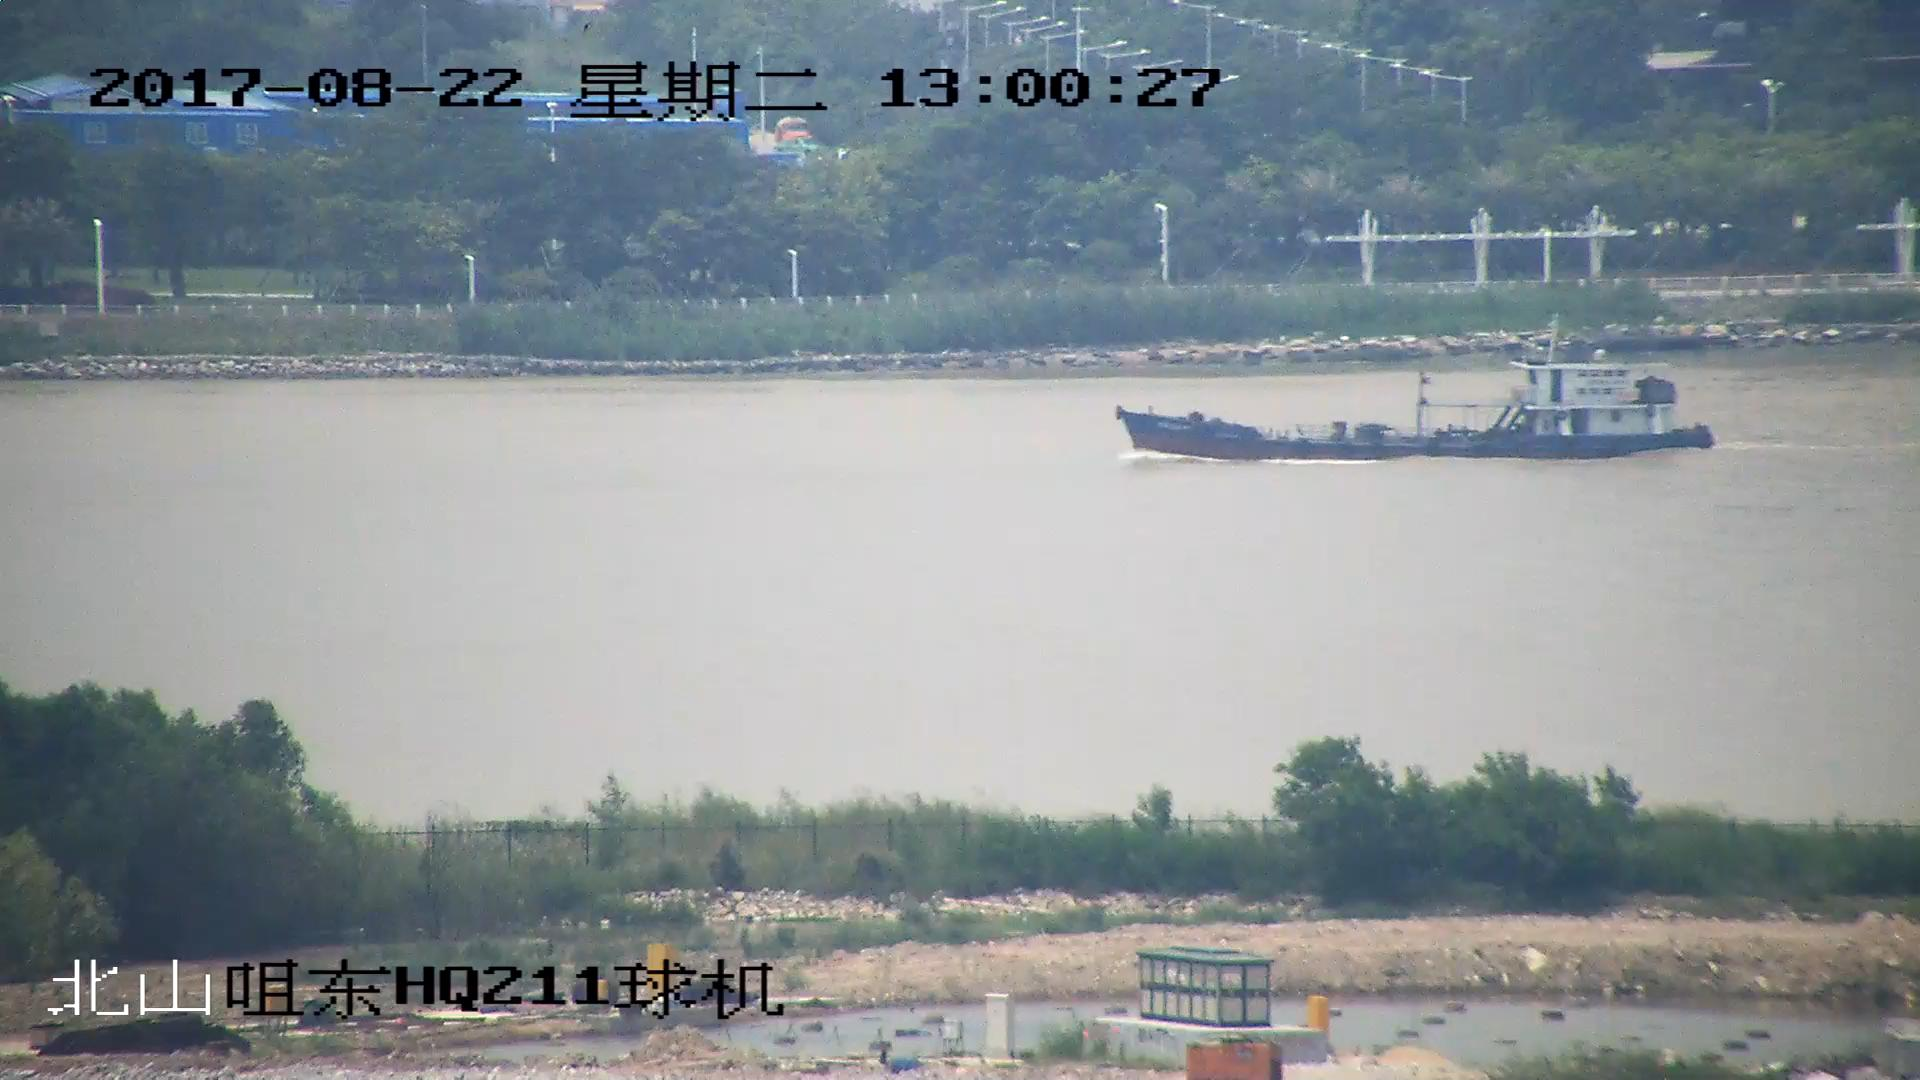fishing boat: (1113, 322, 1718, 460)
